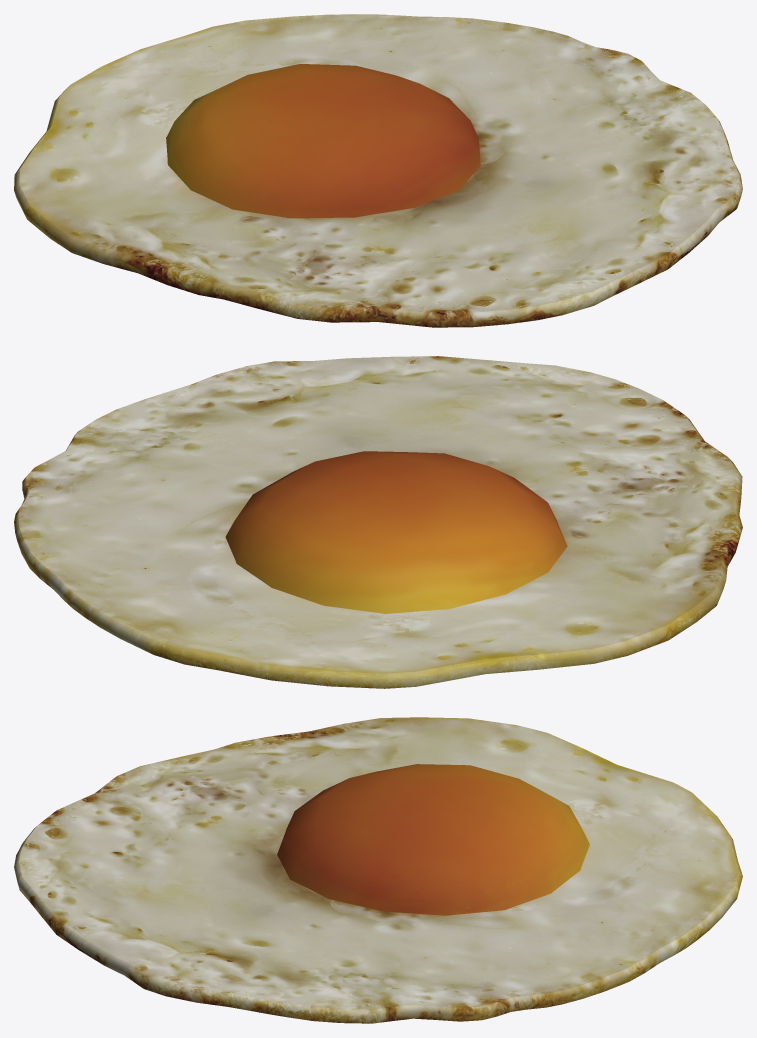
File: eggs_1.fbx
The picture shows the model from 3 angles, top to bottom: view 1: azimuth 30°, elevation 25°; view 2: azimuth 150°, elevation 25°; view 3: azimuth 270°, elevation 25°; orthographic projection. The views are drawn at different scales.
Parts seen in each view (by area): view 1: omlet; view 2: omlet; view 3: omlet.
Part boxes in pixels (x1,y1,x2,y2): omlet: [14, 14, 742, 327]; omlet: [14, 356, 742, 688]; omlet: [14, 717, 742, 1023].
Bounding box in the file's own units: 7.66 × 0.8079 × 7.96.
Materials: 1 (1 with a texture image).
